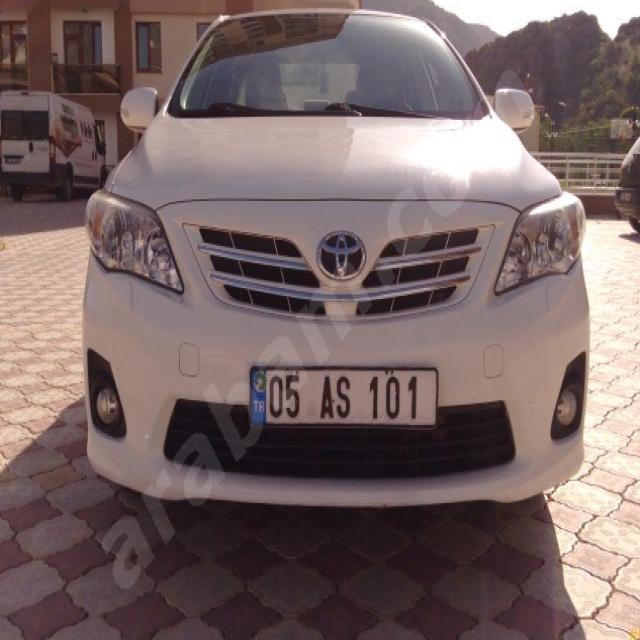license_plate: (250, 366, 438, 427)
